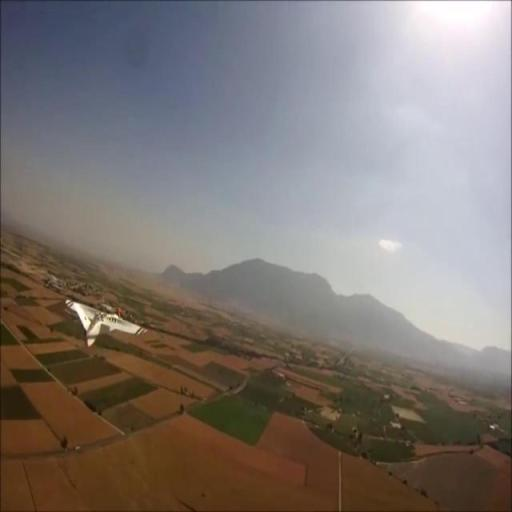uav: (64, 296, 146, 345)
